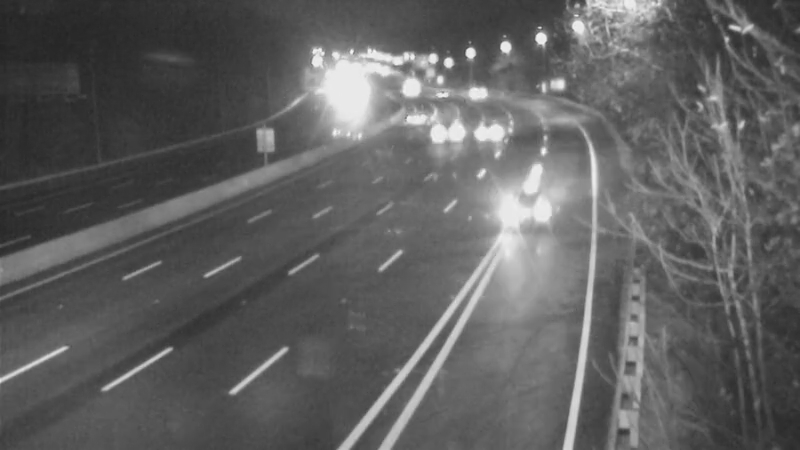vehicle: (497, 169, 577, 249), (448, 62, 498, 112), (386, 63, 436, 113), (413, 67, 463, 117), (392, 92, 442, 142), (426, 106, 476, 156), (464, 105, 514, 155)
